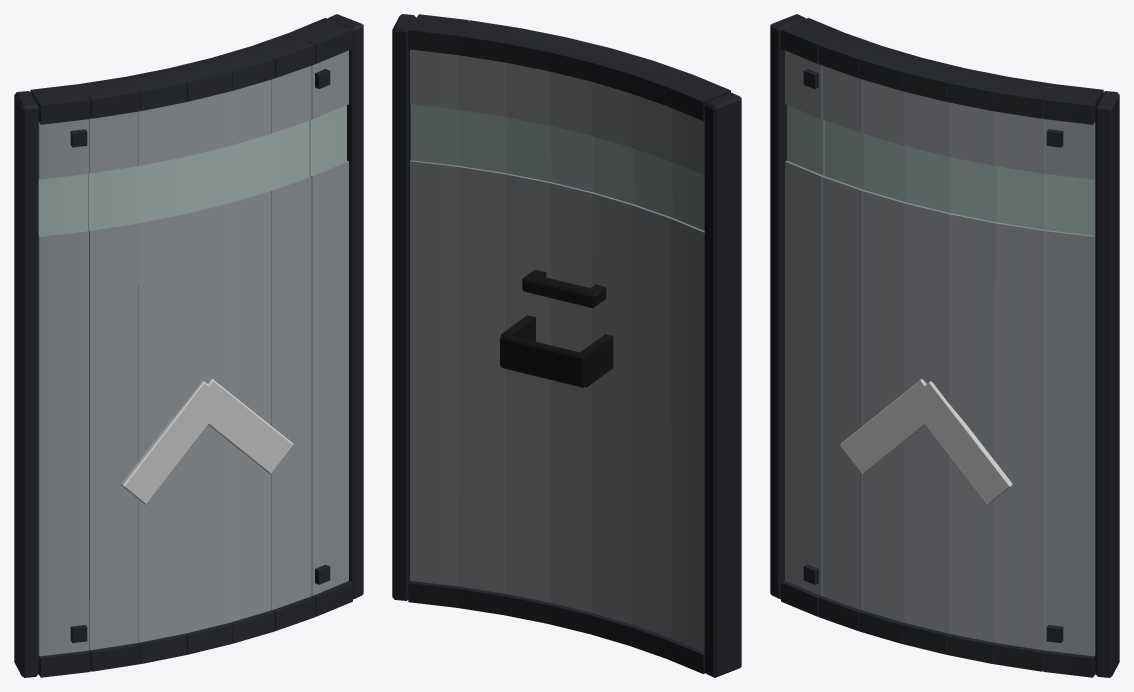
File: riot_shield.glb
The picture shows the model from 3 angles, left to right: view 1: azimuth 30°, elevation 25°; view 2: azimuth 150°, elevation 25°; view 3: azimuth 330°, elevation 25°; orthographic projection.
Visible parts, largest first — view 1: riot_shield; view 2: riot_shield; view 3: riot_shield.
Boxes of the visible parts, bbox=[...] form: riot_shield: bbox=[14, 14, 363, 677]; riot_shield: bbox=[392, 14, 741, 677]; riot_shield: bbox=[770, 14, 1119, 677].
Bounding box in the file's own units: 0.5635 × 0.8999 × 0.1329.
